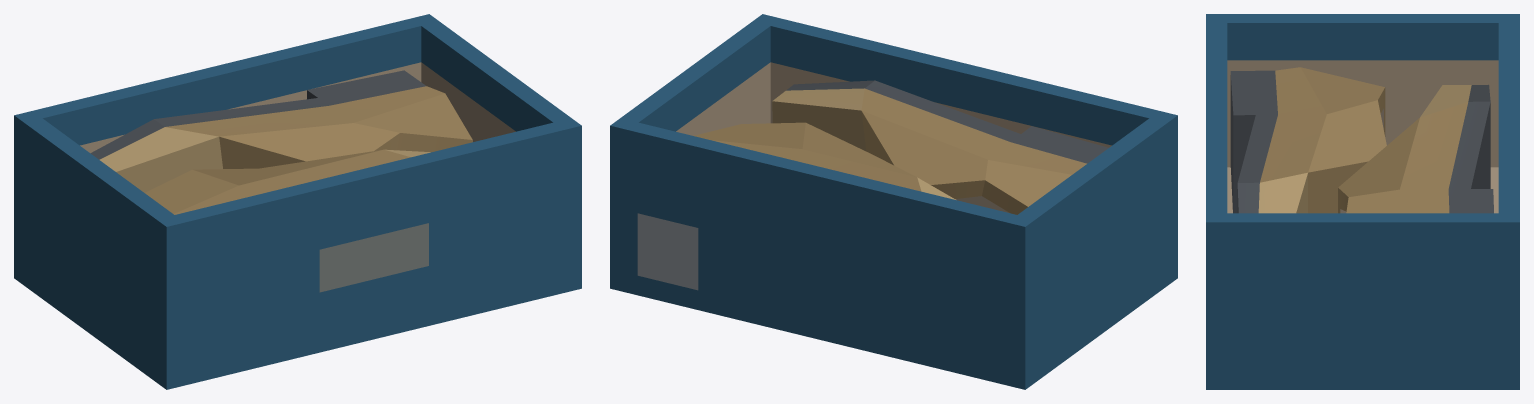
File: SM_Prop_Shoe_Box_Open_03.obj
The picture shows the model from 3 angles, left to right: view 1: azimuth 30°, elevation 25°; view 2: azimuth 150°, elevation 25°; view 3: azimuth 270°, elevation 25°; orthographic projection. The views are drawn at different scales.
Parts seen in each view (by area): view 1: SM_Prop_Shoe_Box_Open_03_0; view 2: SM_Prop_Shoe_Box_Open_03_0; view 3: SM_Prop_Shoe_Box_Open_03_0.
Part boxes in pixels (x1=…): SM_Prop_Shoe_Box_Open_03_0: x1=14, y1=14, x2=581, y2=389; SM_Prop_Shoe_Box_Open_03_0: x1=610, y1=14, x2=1177, y2=389; SM_Prop_Shoe_Box_Open_03_0: x1=1206, y1=14, x2=1519, y2=389.
Size of the model in its own units: 0.3836 by 0.1439 by 0.244.
Materials: 1 (1 with a texture image).
